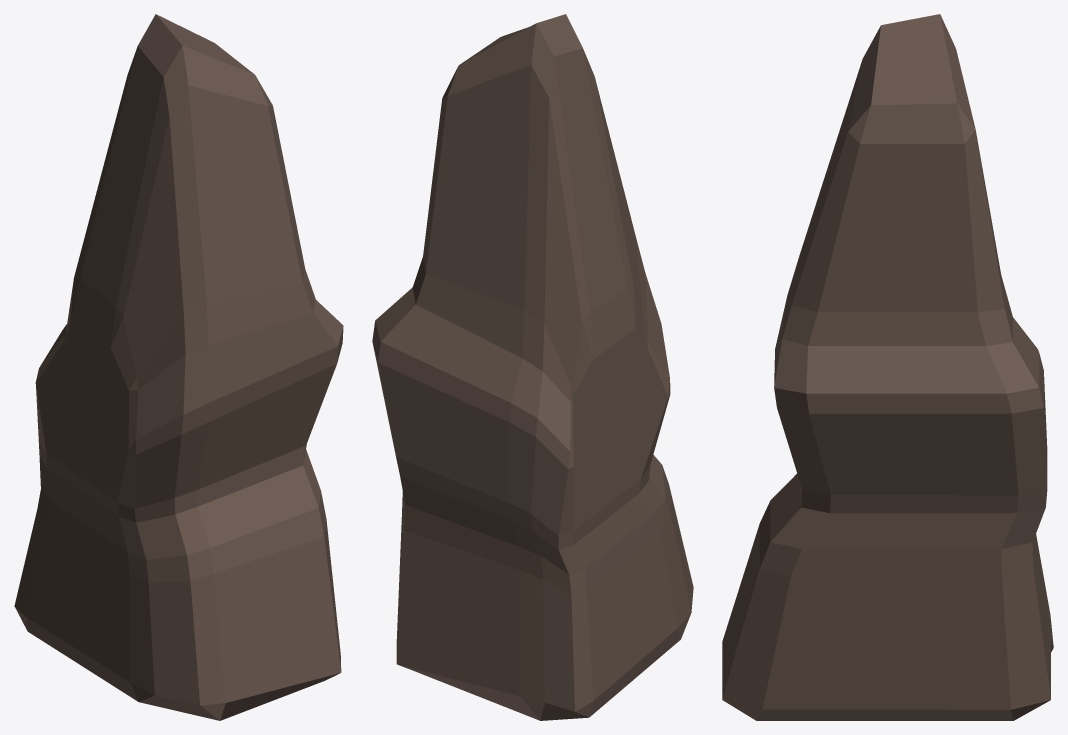
Rendered from rock2.fbx.
The picture shows the model from 3 angles, left to right: view 1: azimuth 30°, elevation 25°; view 2: azimuth 150°, elevation 25°; view 3: azimuth 270°, elevation 25°; orthographic projection. The views are drawn at different scales.
Visible parts, largest first — view 1: Rock2; view 2: Rock2; view 3: Rock2.
Part boxes in pixels (x1=…): Rock2: x1=14, y1=14, x2=343, y2=720; Rock2: x1=372, y1=14, x2=693, y2=720; Rock2: x1=722, y1=14, x2=1053, y2=720.
Bounding box in the file's own units: 775 × 2124 × 962.
